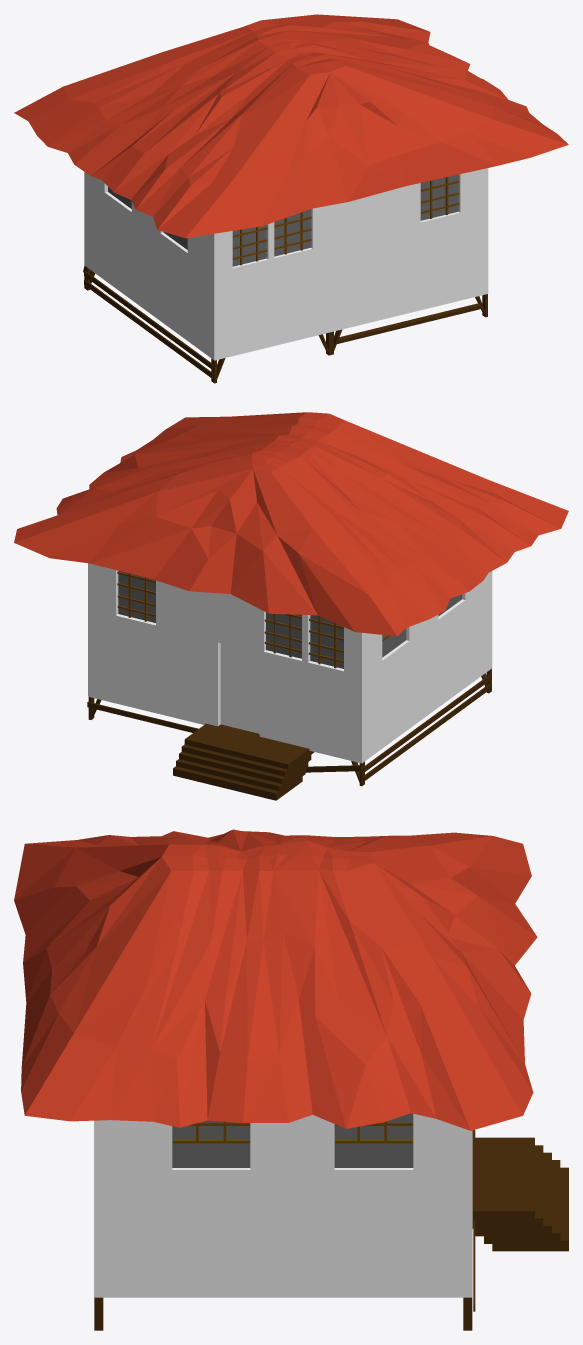
The model's file is House_0.fbx.
3 views of the same model, one above another, from view 1: azimuth 30°, elevation 25°; view 2: azimuth 150°, elevation 25°; view 3: azimuth 270°, elevation 25° (orthographic). The views are drawn at different scales.
Parts seen in each view (by area): view 1: Haus 1; view 2: Haus 1; view 3: Haus 1.
Boxes of the visible parts, x1=… form: Haus 1: x1=14, y1=14, x2=568, y2=383; Haus 1: x1=14, y1=412, x2=568, y2=800; Haus 1: x1=14, y1=829, x2=568, y2=1330.
Size of the model in its own units: 1107 by 685 by 895.
